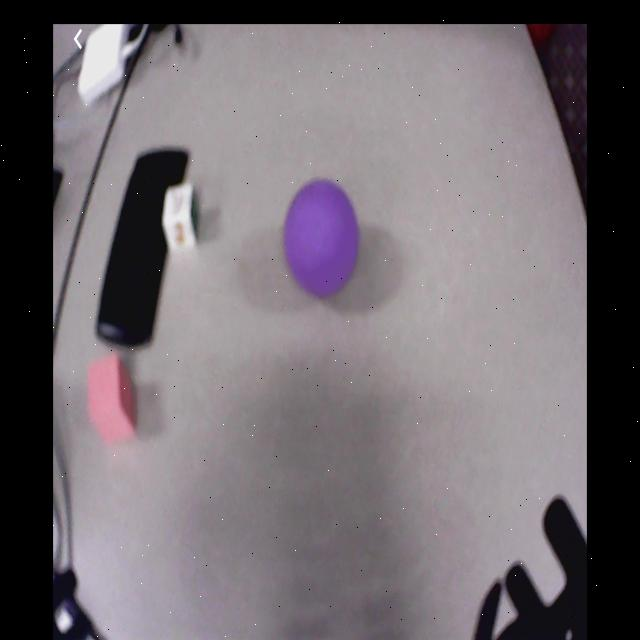ball: (286, 178, 359, 295)
